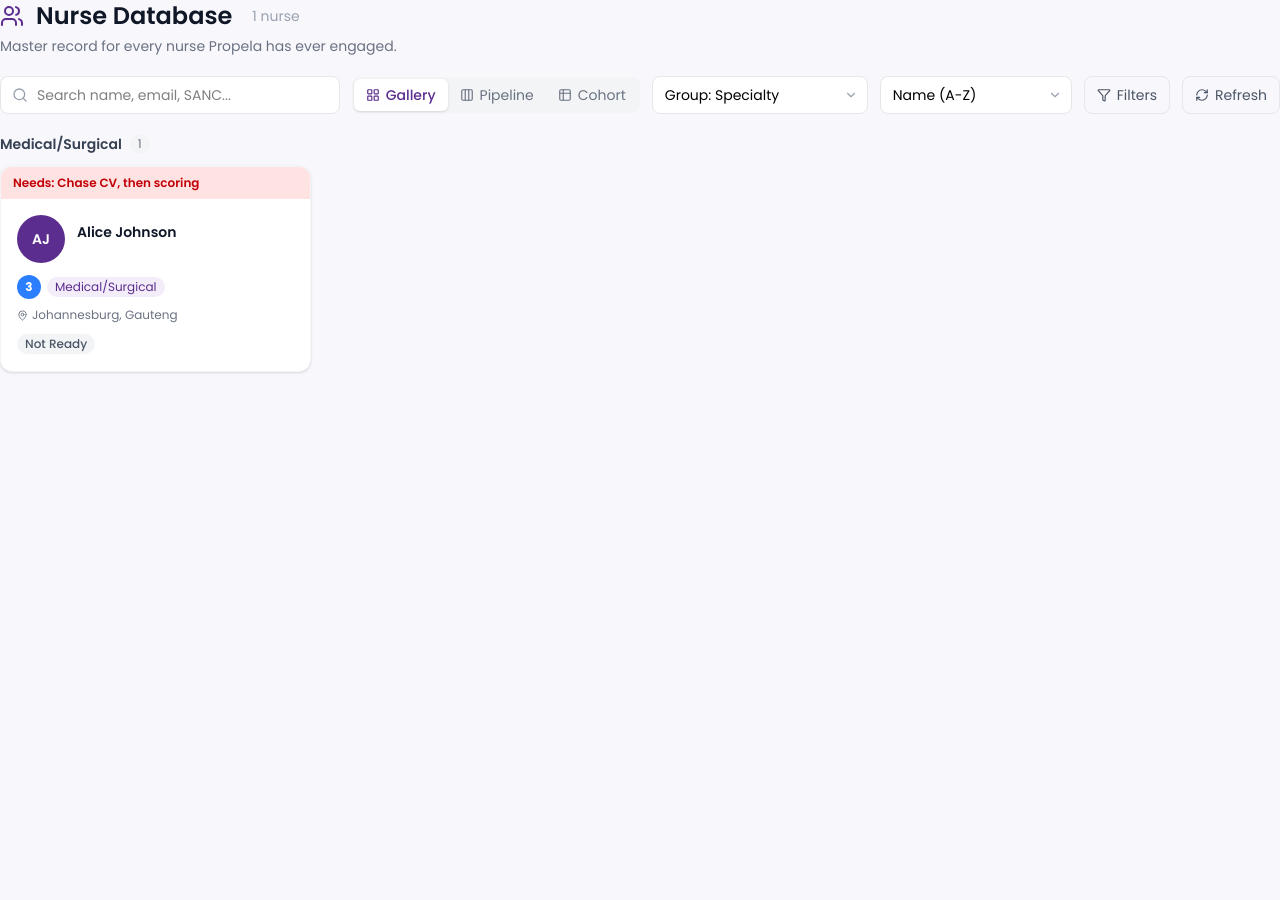
Filter and search integration tests › Nurse filter by pipeline stage › opens the filter panel when Filter button is clicked
// Click the Filters button
Click the button "Filters" at (1127, 95), box [1084,76,1170,114]
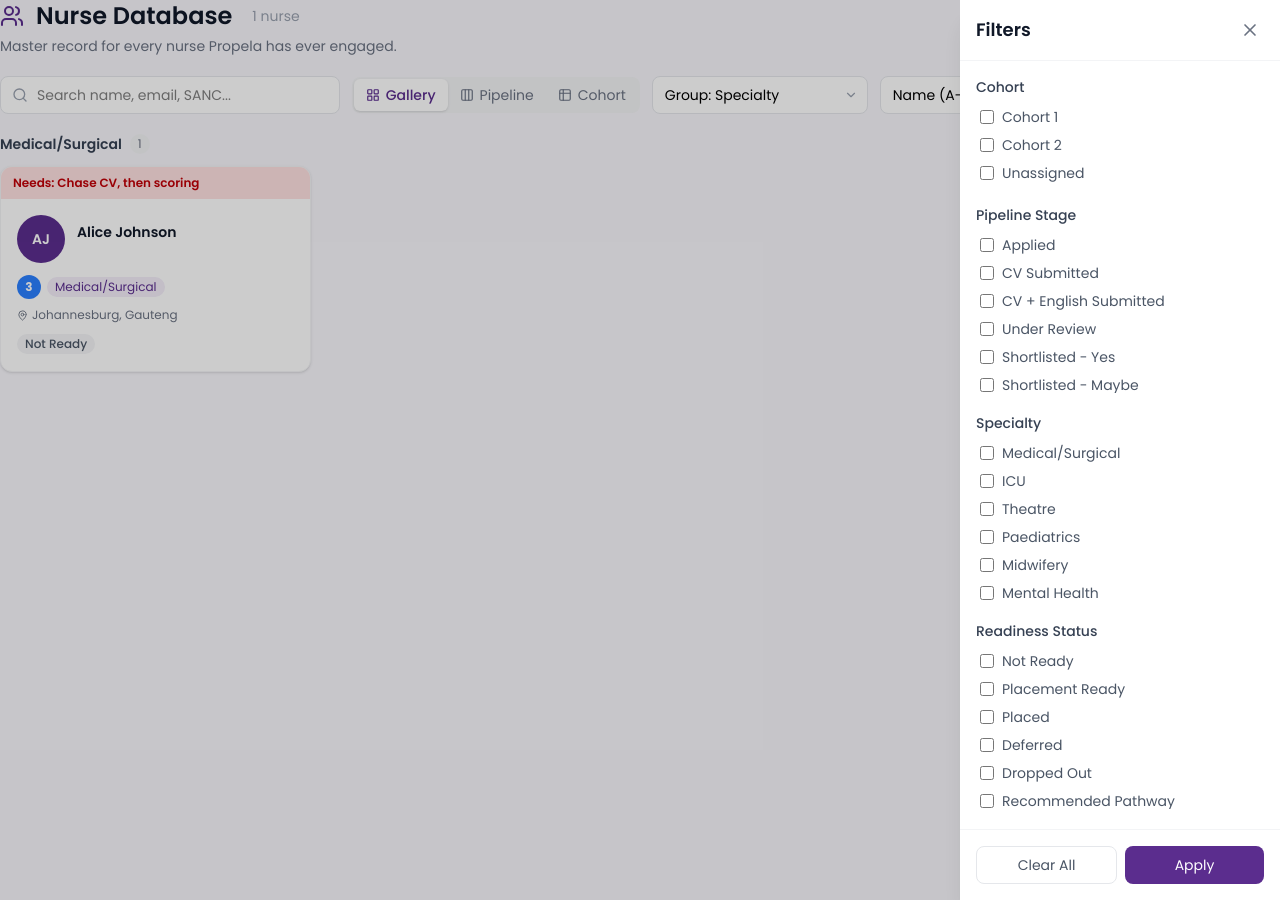
Now the heading "Pipeline Stage" is shown, box [976,205,1076,225]
